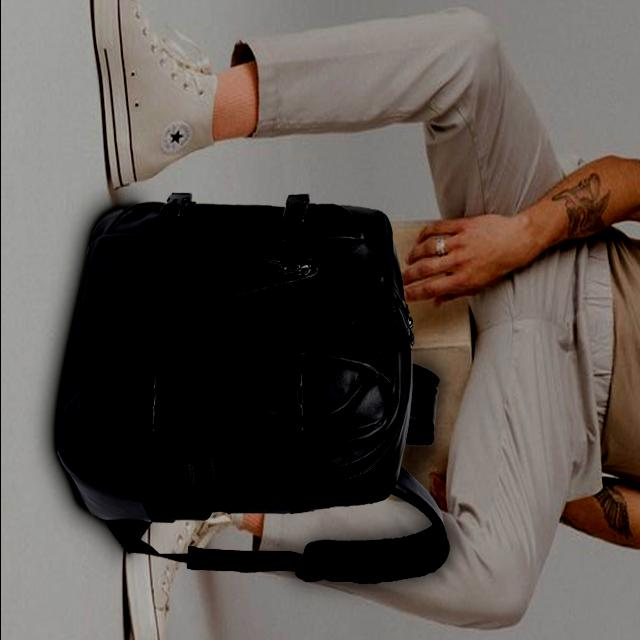backpack: (57, 193, 451, 589)
